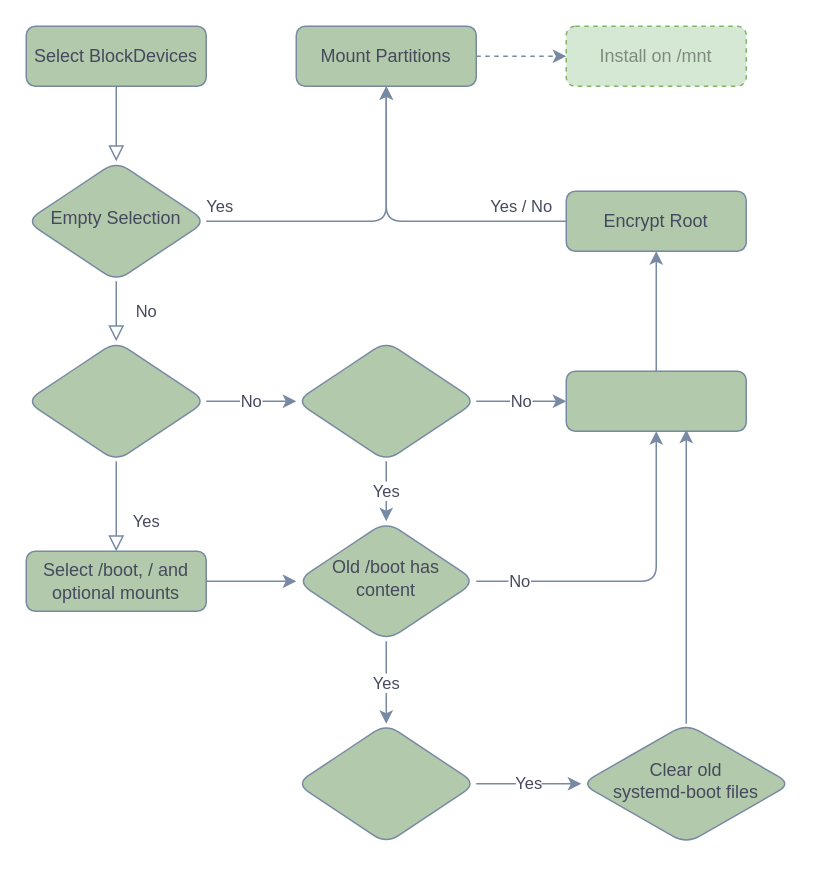
Some shapes in this 818 by 870 pixel diagram are drawn without their labels. The shapes that lost their labels are listed below. From the top down, each one's centre as x and y in pixels, then its label:
the point at 115,400: Multiple BD's
the point at 385,400: Contains Partitions
the point at 655,400: Select Root FIlesystem
the point at 385,783: Wipe /Boot
